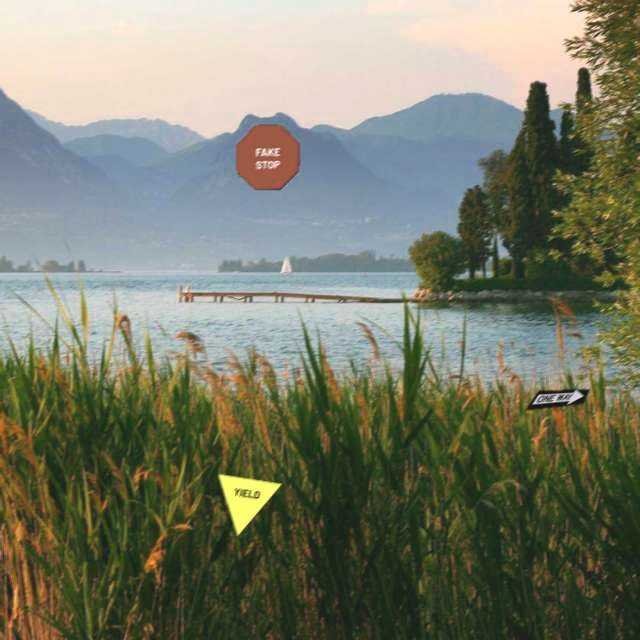FAKE_STOP: (235, 124, 300, 190)
ONE_WAY_ right: (524, 388, 590, 410)
YIELD: (217, 473, 283, 537)
